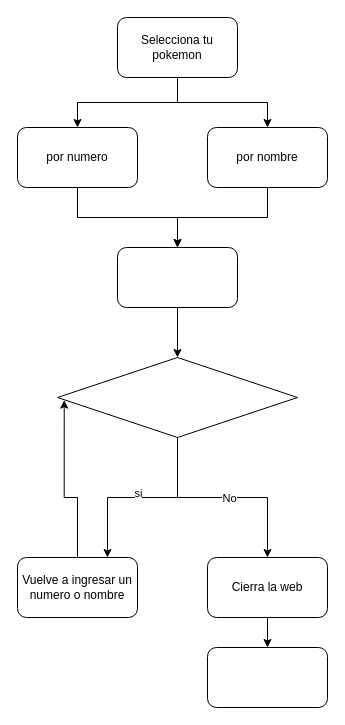
Image size: 345x725. Some labels were removed from this diagram. The centre of each missing label's shape, as x and y in pixels:
Fin: pixel 267 677
resultado de la busqueda: pixel 177 277
¿Quieres buscar otro pokemon?: pixel 177 397
